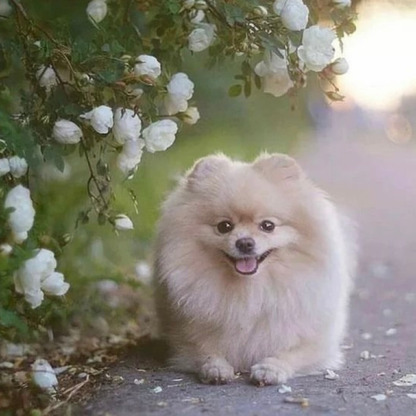Pomeranian: (133, 139, 376, 391)
